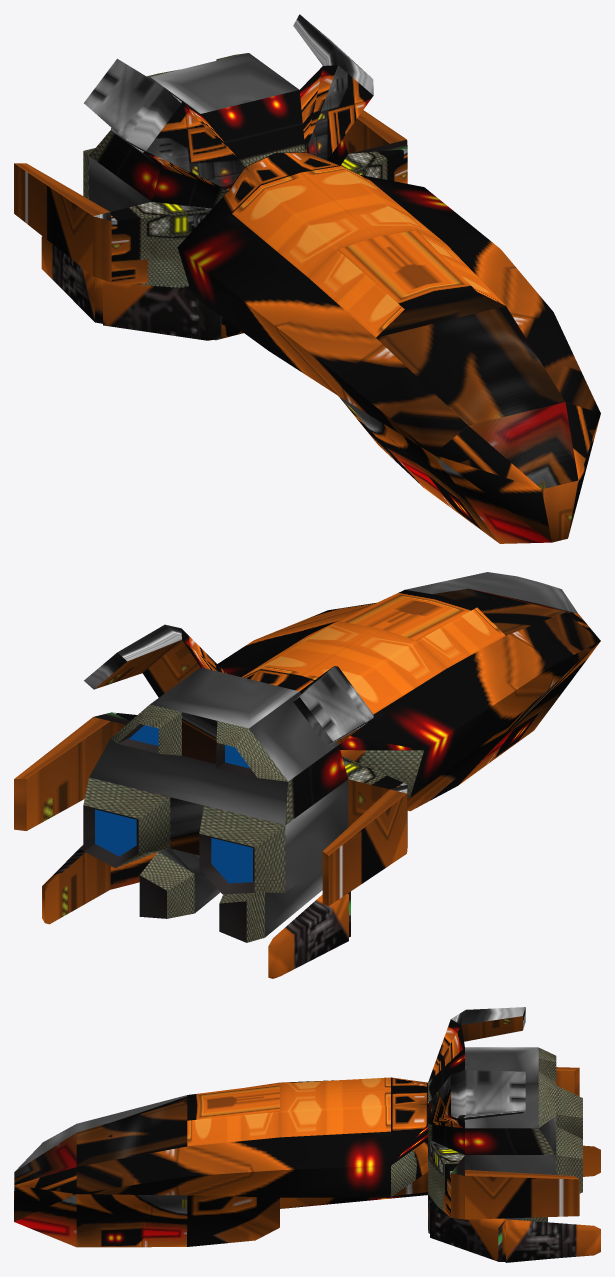
File: ivstas00.obj
3 renders of one model, top to bottom at view 1: azimuth 30°, elevation 25°; view 2: azimuth 150°, elevation 25°; view 3: azimuth 270°, elevation 25°, orthographic. The views are drawn at different scales.
Parts seen in each view (by area): view 1: main_body, cockpit, rlink, rnacelle; view 2: main_body, cockpit, rnacelle, lnacelle, flame_4__h, flame_1__h, llink; view 3: main_body, cockpit, lnacelle, llink, rnacelle.
Part boxes in pixels (bbox=[...]): main_body: bbox=[14, 14, 600, 543]; cockpit: bbox=[376, 292, 578, 488]; rlink: bbox=[103, 280, 220, 340]; rnacelle: bbox=[41, 236, 102, 323]; main_body: bbox=[14, 588, 600, 942]; cockpit: bbox=[405, 572, 577, 635]; rnacelle: bbox=[268, 894, 348, 978]; lnacelle: bbox=[42, 845, 110, 924]; flame_4__h: bbox=[211, 838, 252, 883]; flame_1__h: bbox=[95, 809, 136, 856]; llink: bbox=[110, 852, 157, 889]; main_body: bbox=[14, 1007, 582, 1247]; cockpit: bbox=[14, 1095, 187, 1184]; lnacelle: bbox=[502, 1219, 600, 1262]; llink: bbox=[430, 1202, 505, 1261]; rnacelle: bbox=[583, 1145, 600, 1176].
Bounding box in the file's own units: 4.48 × 3.78 × 9.95.
Materials: 4 (3 with a texture image).
